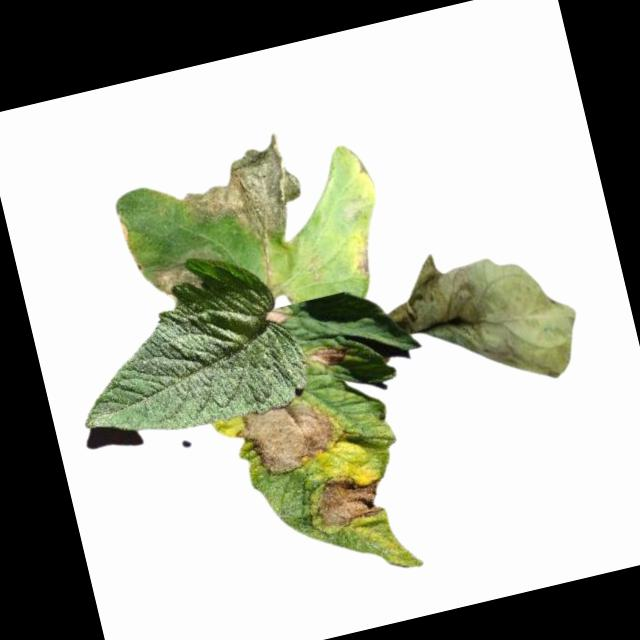Late_blight: (376, 222, 590, 413), (172, 130, 312, 263), (230, 391, 346, 485), (307, 464, 392, 535), (152, 252, 204, 305), (345, 235, 379, 281), (304, 341, 349, 373), (296, 252, 327, 286), (113, 211, 137, 249), (262, 306, 295, 329)
healthy: (52, 239, 313, 452)
